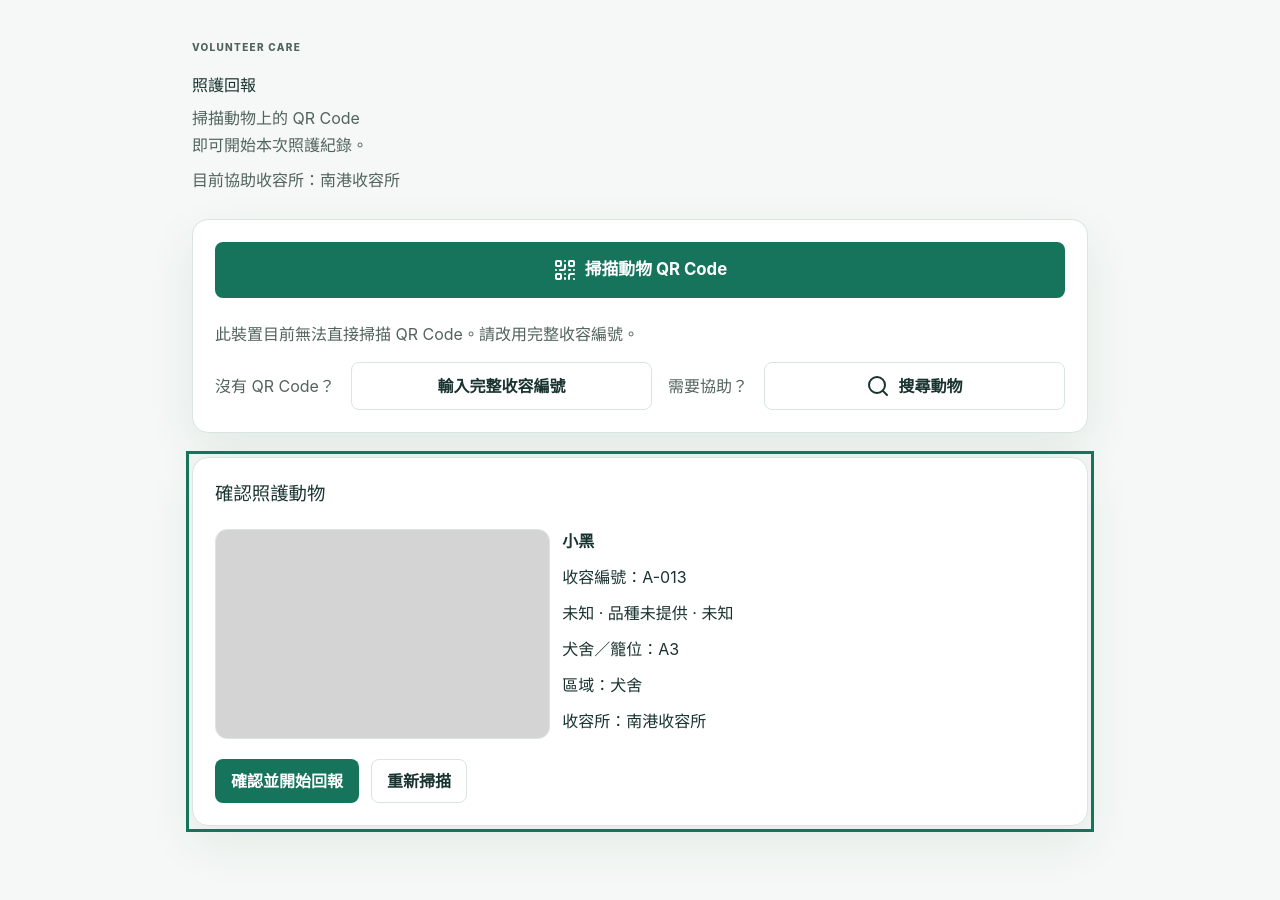
Test: QR-first animal confirmation page › does not show success when handoff creation fails
The image size is (1280, 900).
Click the button "確認並開始回報".
click(287, 781)  # box x1=215 y1=759 x2=359 y2=803
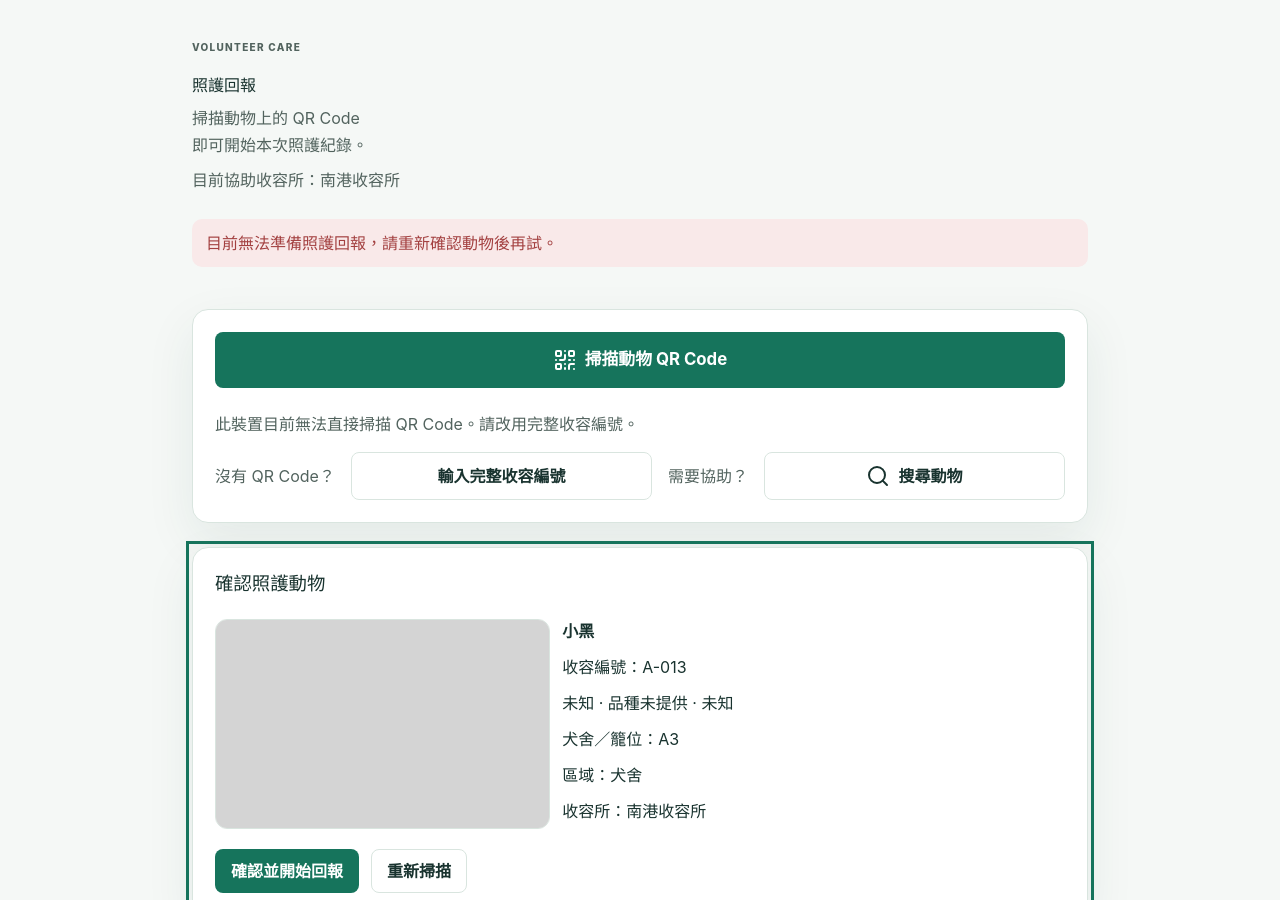
Now the message "目前無法準備照護回報，請重新確認動物後再試。" is shown, box x1=192 y1=219 x2=1088 y2=267
